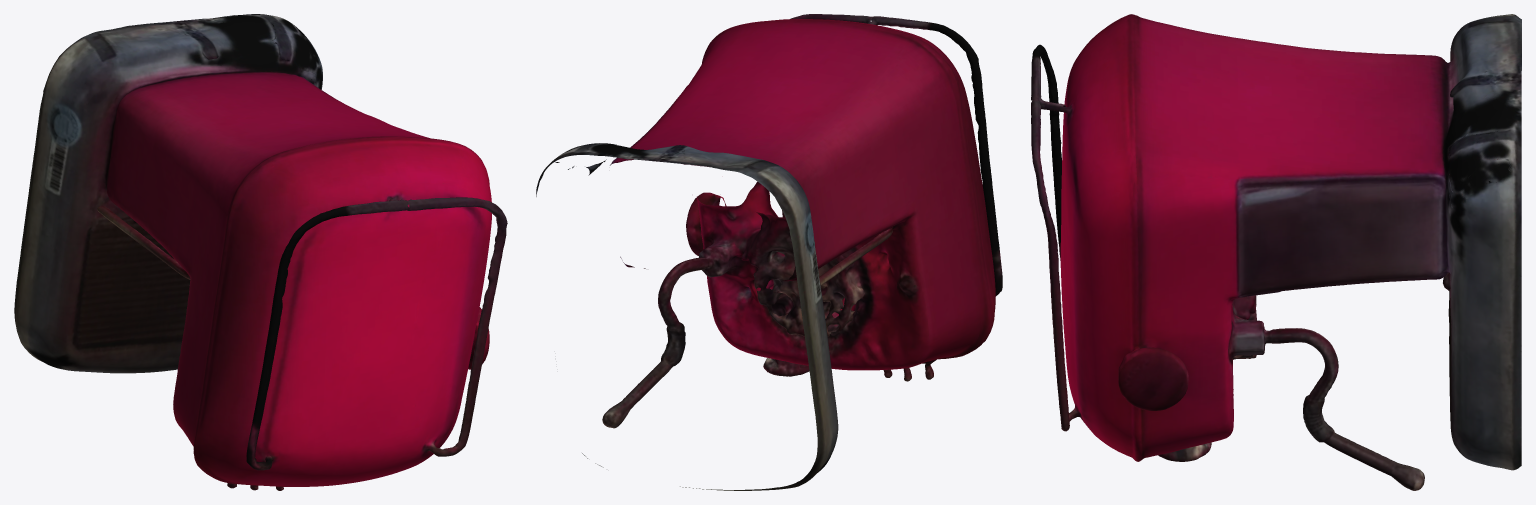
File: coffee.glb
The picture shows the model from 3 angles, left to right: view 1: azimuth 30°, elevation 25°; view 2: azimuth 150°, elevation 25°; view 3: azimuth 270°, elevation 25°; orthographic projection. The views are drawn at different scales.
Parts seen in each view (by area): view 1: geometry_0; view 2: geometry_0; view 3: geometry_0.
Boxes of the visible parts, x1,y1,x2,y2 form: geometry_0: (14,14,507,490); geometry_0: (536,14,1002,490); geometry_0: (1031,14,1521,490).
Size of the model in its own units: 0.8383 by 0.9406 by 1.1.
1 material, 1 textured.
